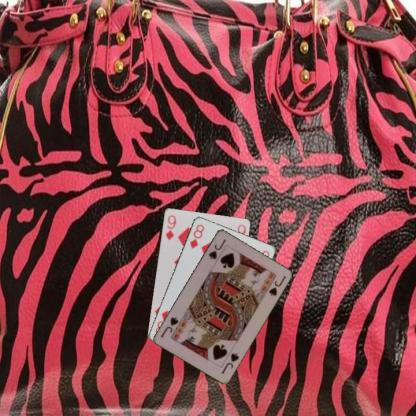8d: (187, 221, 205, 250)
9d: (163, 213, 177, 241)
Js: (206, 236, 228, 261), (218, 350, 240, 375)
